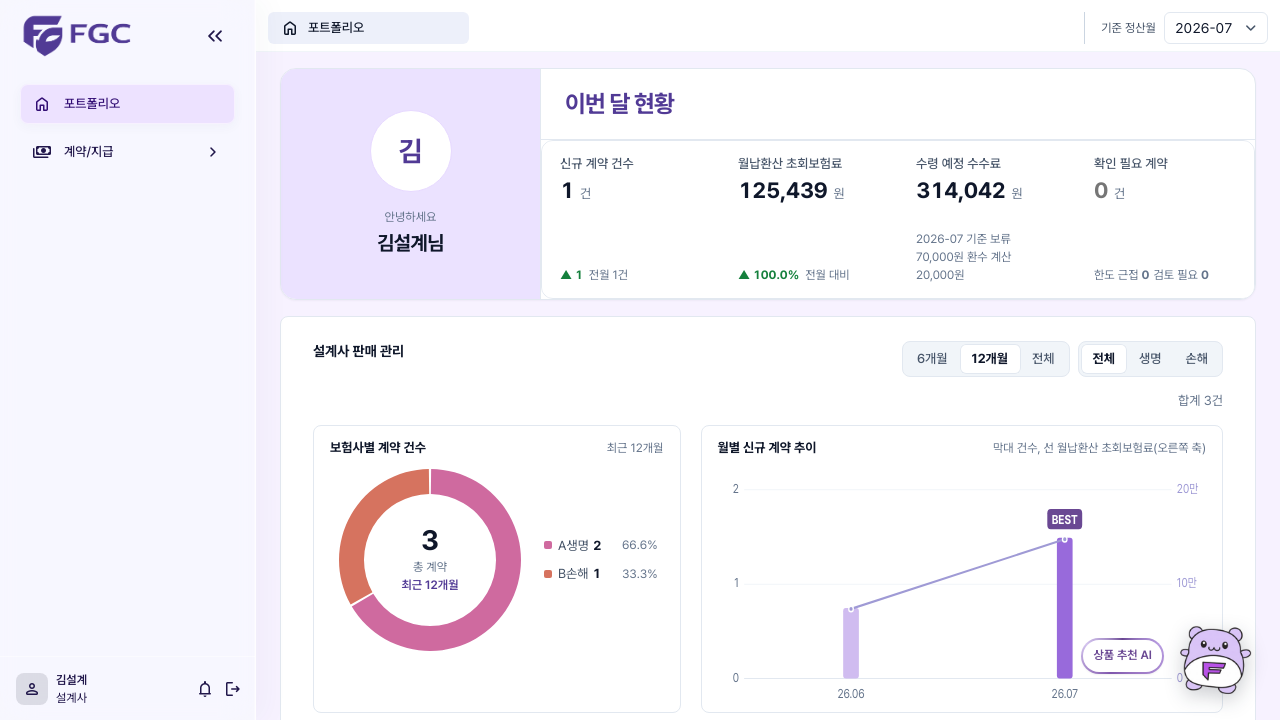
Test case: AGNT-W01 포트폴리오 › 판매 관리 필터는 서버에 기간·보험사 구분·보험사를 보내 다시 집계한다
This screenshot has width=1280, height=720.
Expected: the text "합계 3건" is shown, left=1178, top=391, right=1223, bottom=410
Click the button "손해".
click(1197, 359)  # box left=1174, top=344, right=1220, bottom=374
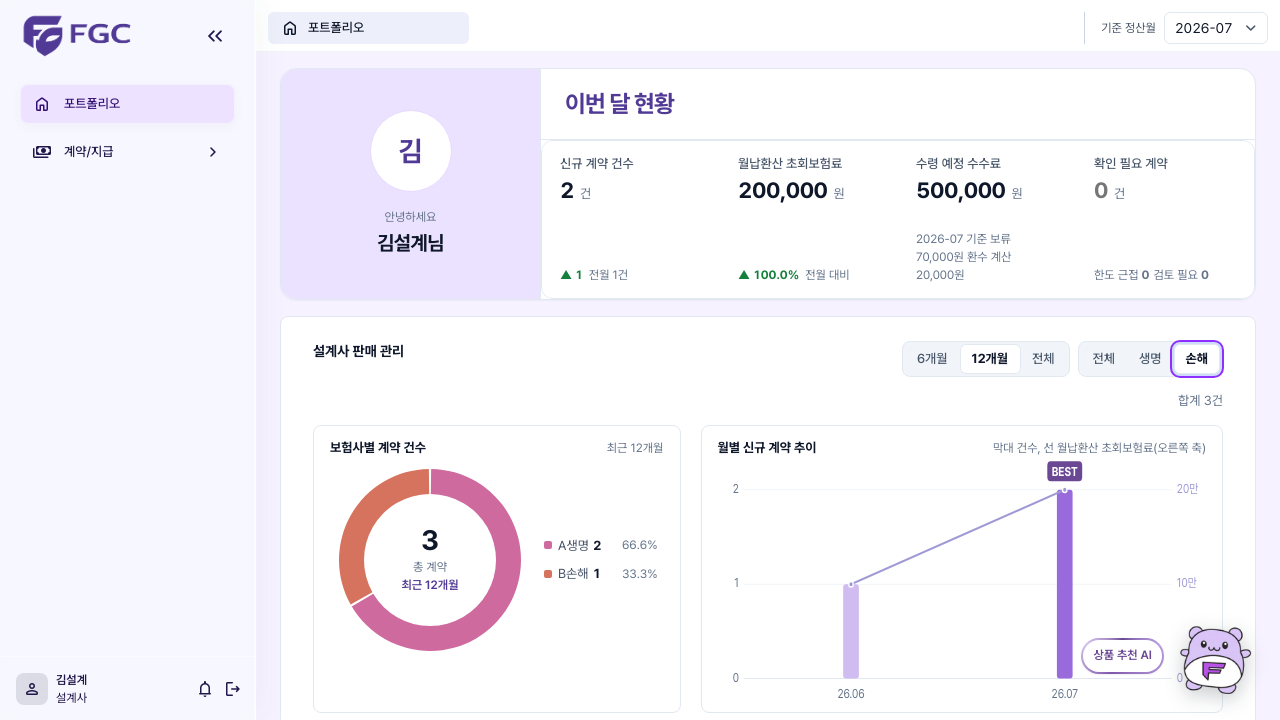
Expected: the button "손해" is pressed, left=1174, top=344, right=1220, bottom=374
Click the button "6개월".
click(932, 359)  # box left=905, top=344, right=960, bottom=374
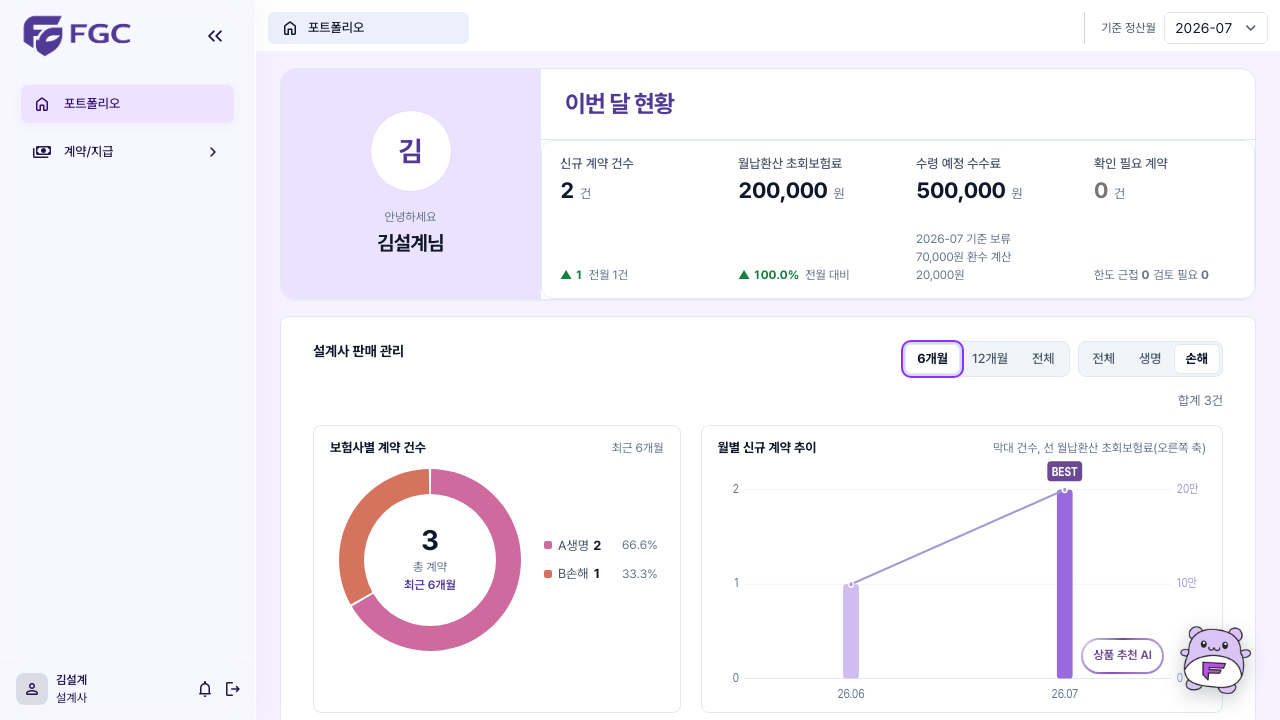
Click the 2nd button "전체".
click(1104, 359)  # box left=1080, top=344, right=1127, bottom=374
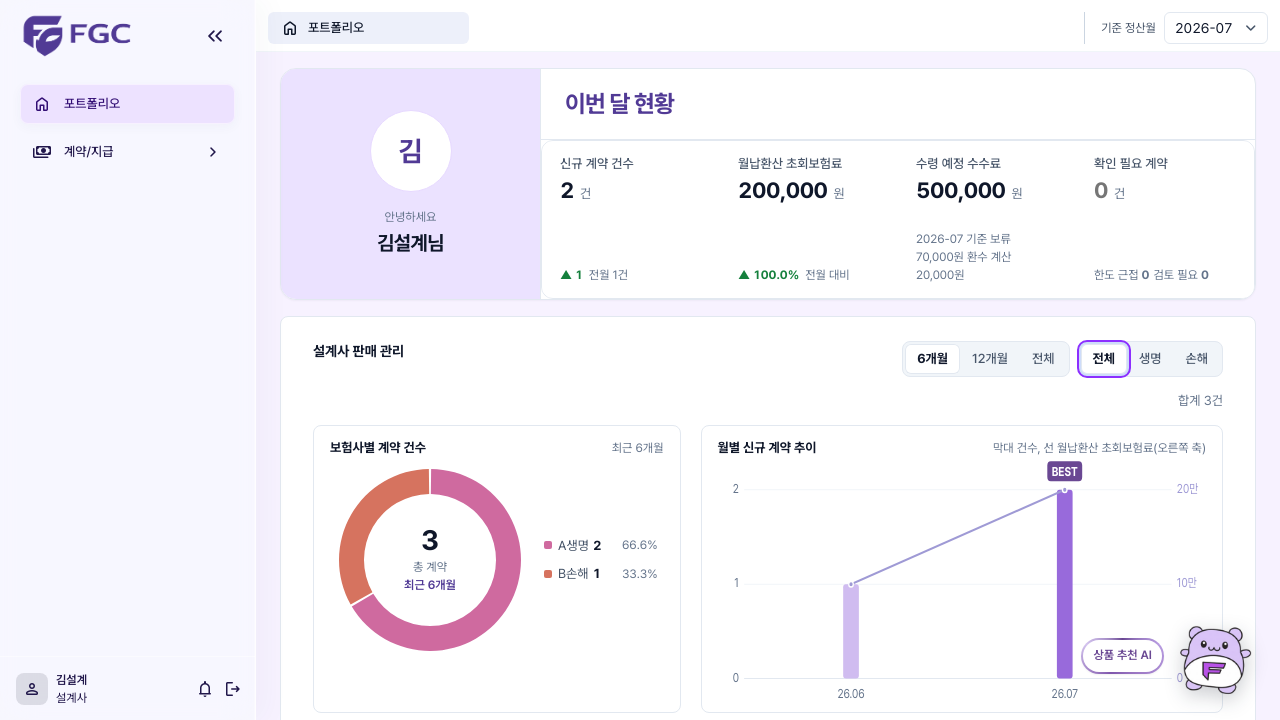
Click the button "B손해1 33.3%".
click(601, 574)  # box left=538, top=560, right=664, bottom=588
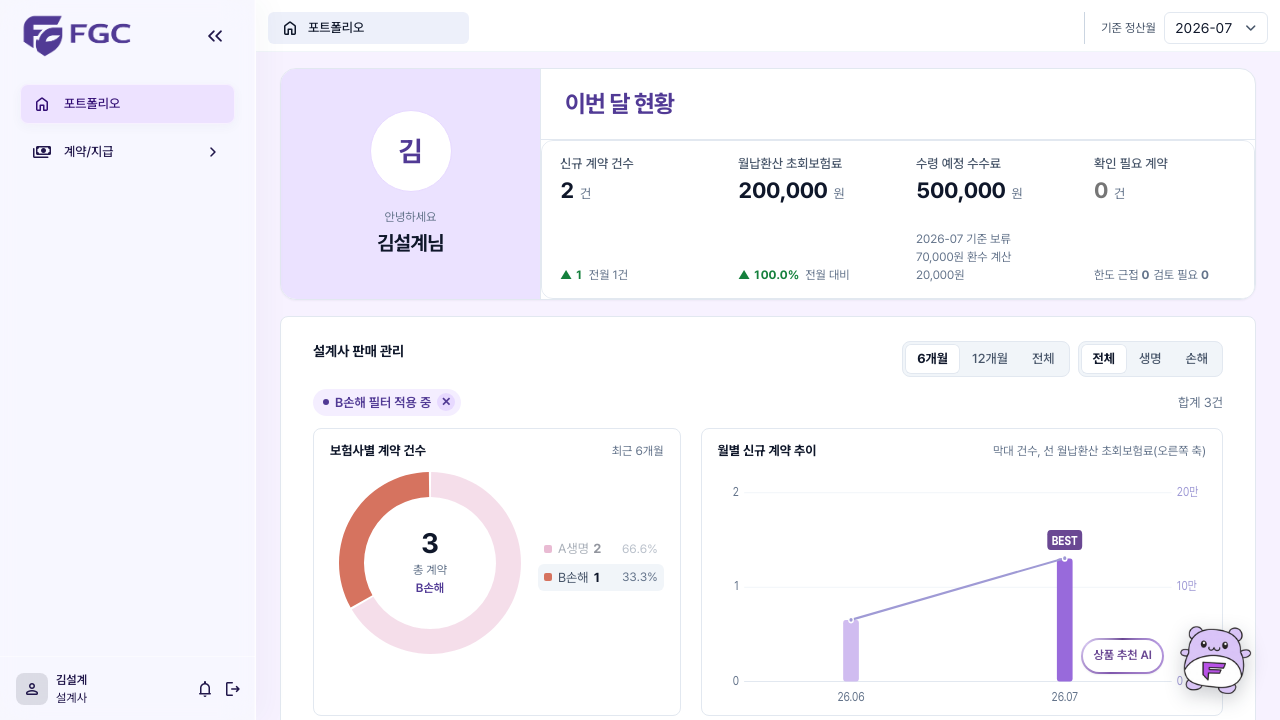
Expected: the text "B손해 필터 적용 중" is shown, left=313, top=388, right=461, bottom=416
Click the button named "보험사 필터 해제".
click(446, 402)  # box left=437, top=393, right=455, bottom=411
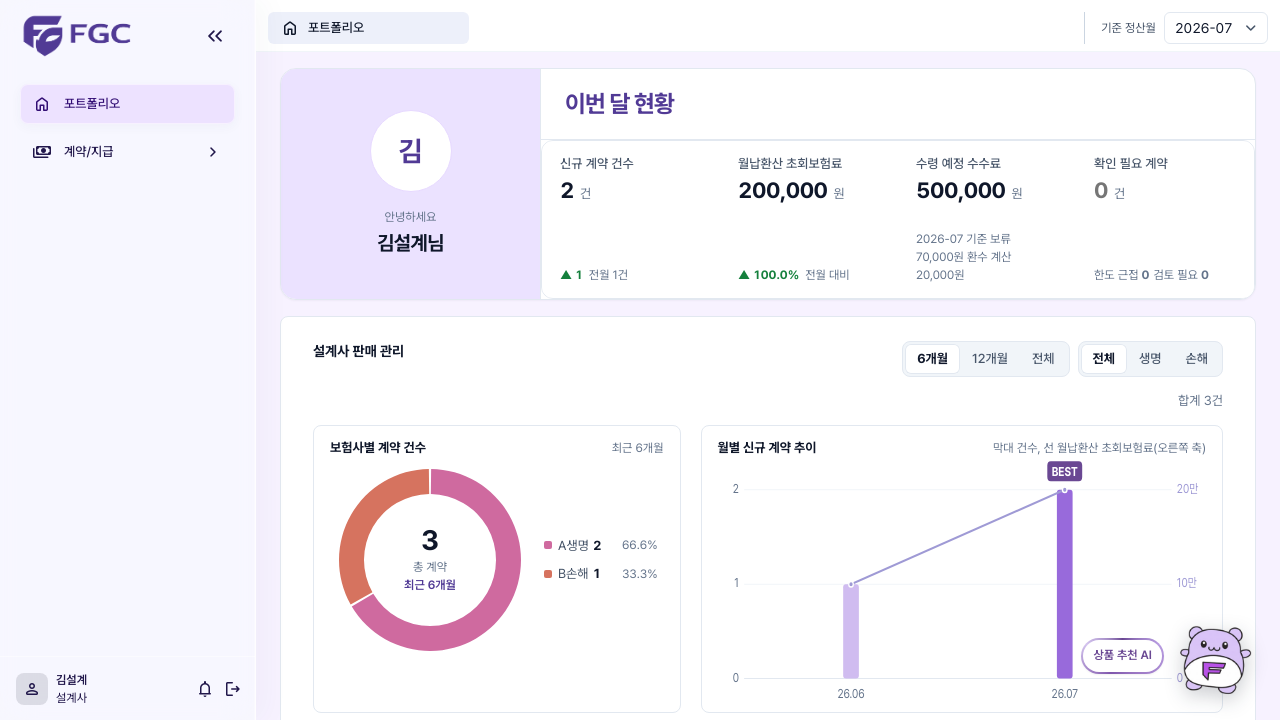
Expected: the text "B손해 필터 적용 중" is gone
